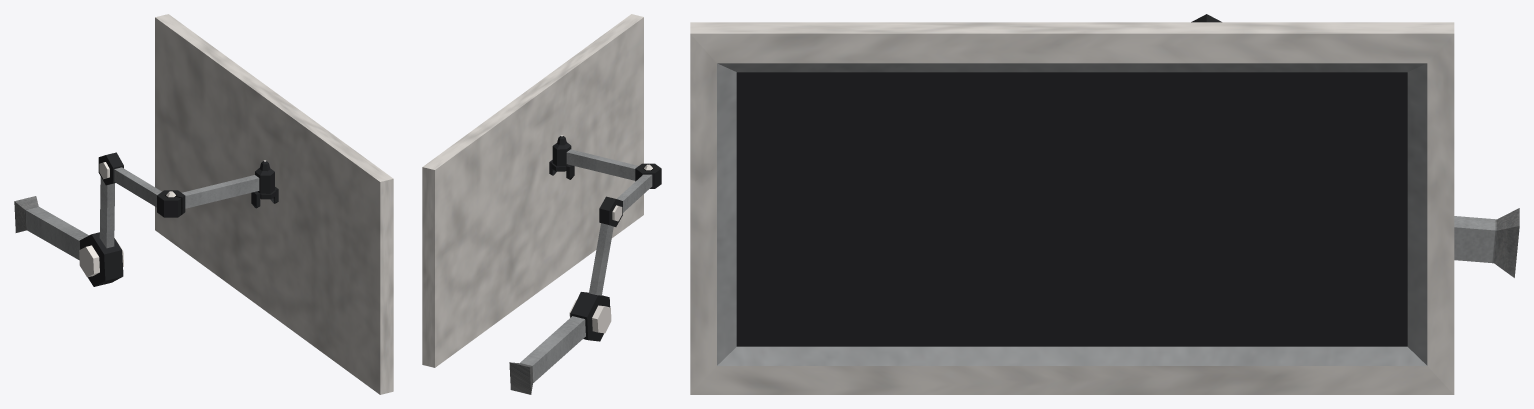
The model's file is telamovel 1.fbx.
3 renders of one model, left to right at view 1: azimuth 30°, elevation 25°; view 2: azimuth 150°, elevation 25°; view 3: azimuth 270°, elevation 25°, orthographic. The views are drawn at different scales.
Parts seen in each view (by area): view 1: Cube.001; view 2: Cube.001; view 3: Cube.001.
Boxes of the visible parts, bbox=[...] form: Cube.001: bbox=[14, 14, 393, 394]; Cube.001: bbox=[422, 14, 661, 394]; Cube.001: bbox=[690, 14, 1519, 394].
Bounding box in the file's own units: 357 × 522 × 1085.
